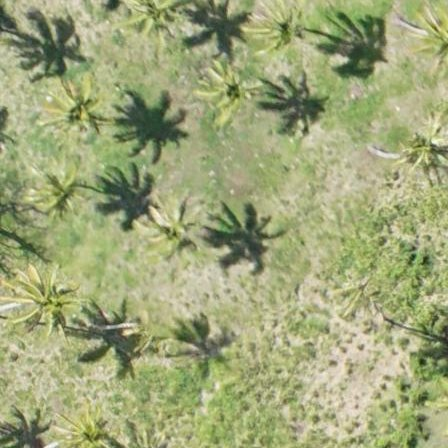palm_tree: (135, 197, 200, 262), (39, 80, 102, 142), (11, 266, 71, 330), (196, 63, 258, 123), (25, 163, 83, 225), (253, 1, 311, 55), (397, 119, 448, 177), (58, 407, 114, 448), (117, 1, 177, 37), (333, 272, 380, 317)
